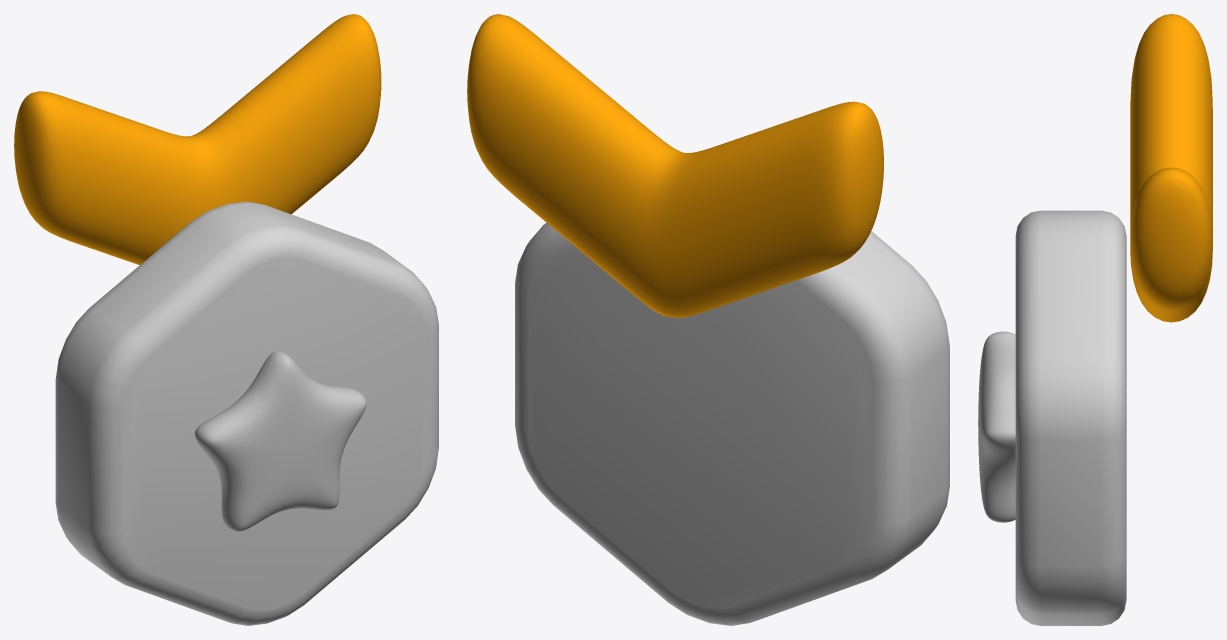
The model's file is medal-animated-3d-icon-1639352721915.glb.
3 renders of one model, left to right at view 1: azimuth 30°, elevation 25°; view 2: azimuth 150°, elevation 25°; view 3: azimuth 270°, elevation 25°, orthographic. The views are drawn at different scales.
Parts seen in each view (by area): view 1: Medal, Strap, Star; view 2: Medal, Strap; view 3: Medal, Strap, Star.
Part boxes in pixels (<box>): Medal: <box>55,201,438,625</box>; Strap: <box>14,14,381,265</box>; Star: <box>194,351,366,531</box>; Medal: <box>515,223,949,625</box>; Strap: <box>467,14,883,317</box>; Medal: <box>1015,210,1126,625</box>; Strap: <box>1130,14,1212,322</box>; Star: <box>978,331,1015,522</box>.
Size of the model in its own units: 1.5 by 2.13 by 0.863.
